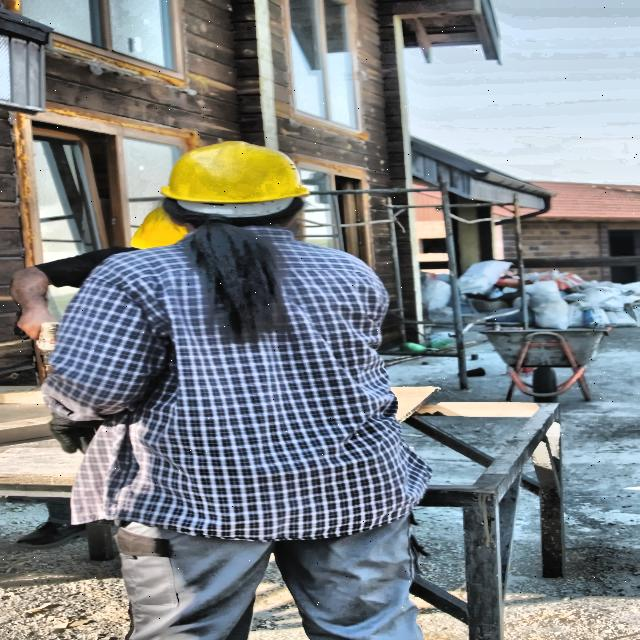not-gloved: (15, 304, 74, 347)
